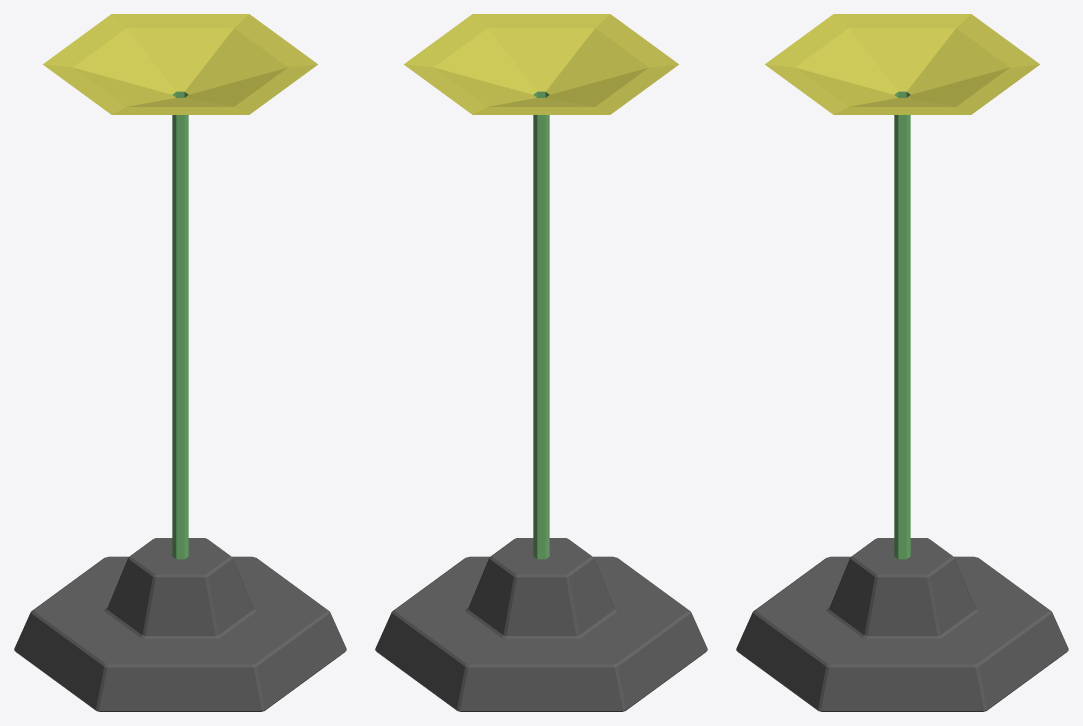
Rendered from SM_LightSF.fbx.
The picture shows the model from 3 angles, left to right: view 1: azimuth 30°, elevation 25°; view 2: azimuth 150°, elevation 25°; view 3: azimuth 270°, elevation 25°; orthographic projection.
Visible parts, largest first — view 1: Cylinder; view 2: Cylinder; view 3: Cylinder.
Part boxes in pixels (x1,y1,x2,y2): Cylinder: (14,14,346,711); Cylinder: (375,14,707,711); Cylinder: (736,14,1068,711).
Size of the model in its own units: 193 by 442 by 222.
